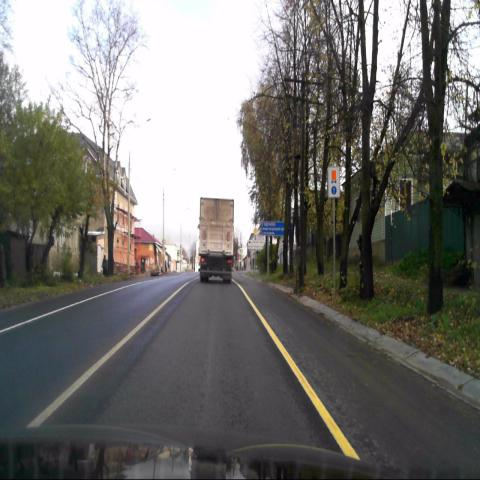4_8_2: (328, 167, 339, 198)
